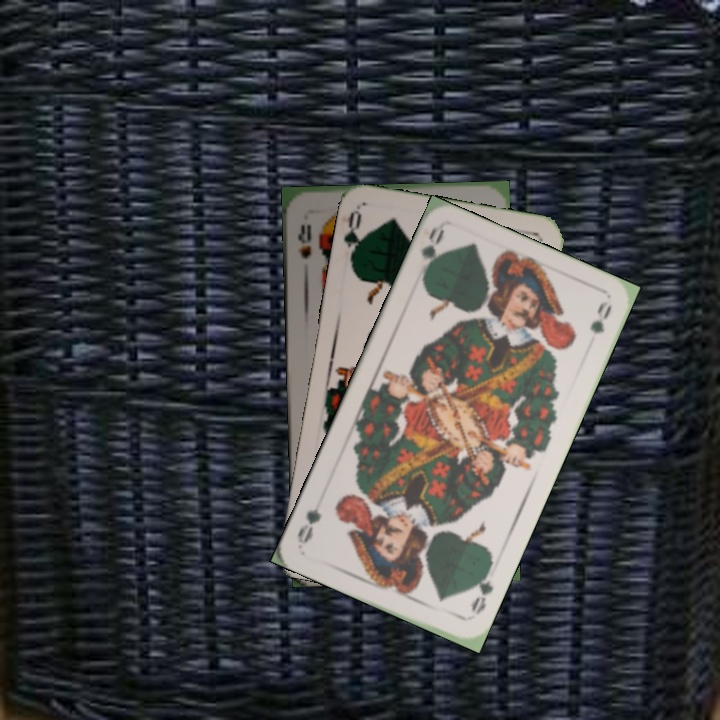GO: (416, 223, 447, 283), (339, 207, 368, 267), (466, 564, 496, 617)
S8: (293, 220, 314, 261)
